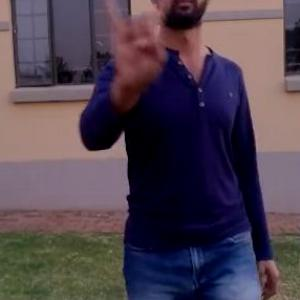takeoff-hand: (95, 0, 179, 92)
